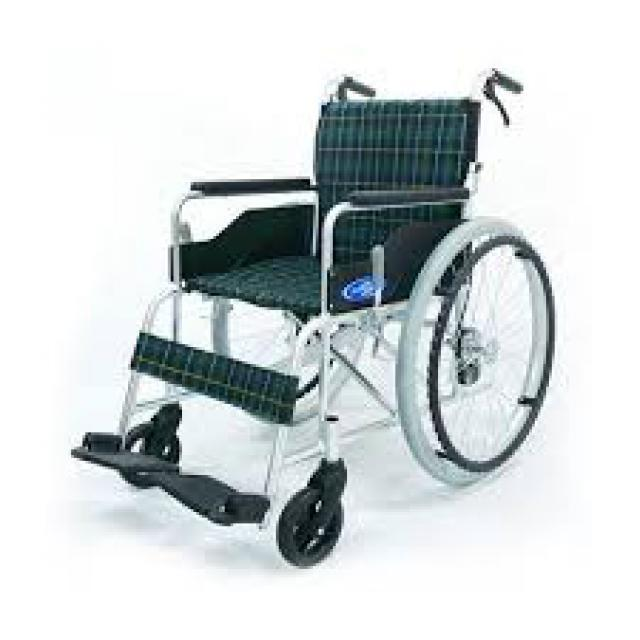wheelchair: (59, 57, 560, 572)
